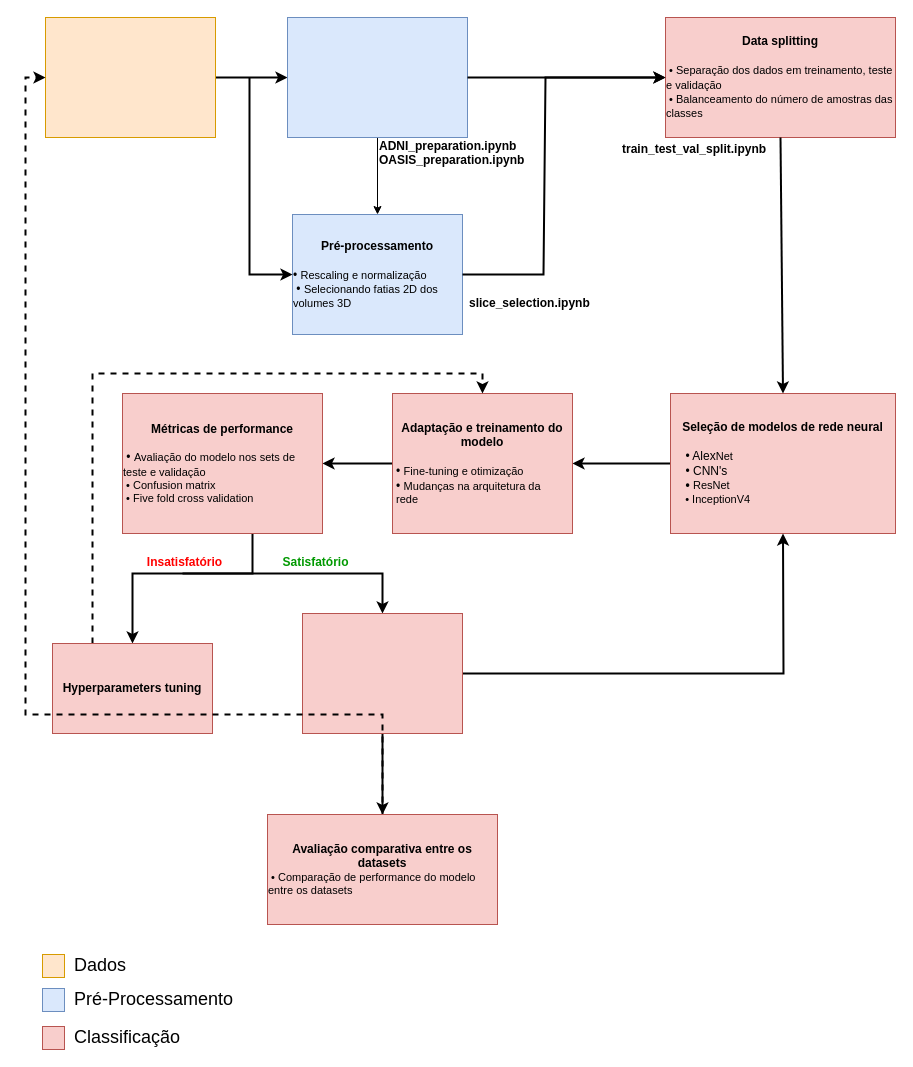
This 913x1067 diagram has some shape labels left out. The shapes that lost their labels are listed below. From the top down, each one's box as (x1, y1, x2, y2) in pixels, then its label:
(44, 16, 216, 138): Dados • Imagens de MRI • Bases de dados públicas: Kaggle, OASIS, ADNI
(286, 16, 468, 138): Dataloader • Carregamento dos dados • Manejamento das imagens e labels
(302, 612, 462, 734): Avaliação comparativa do modelo • Comparação com outros modelos estado da arte
